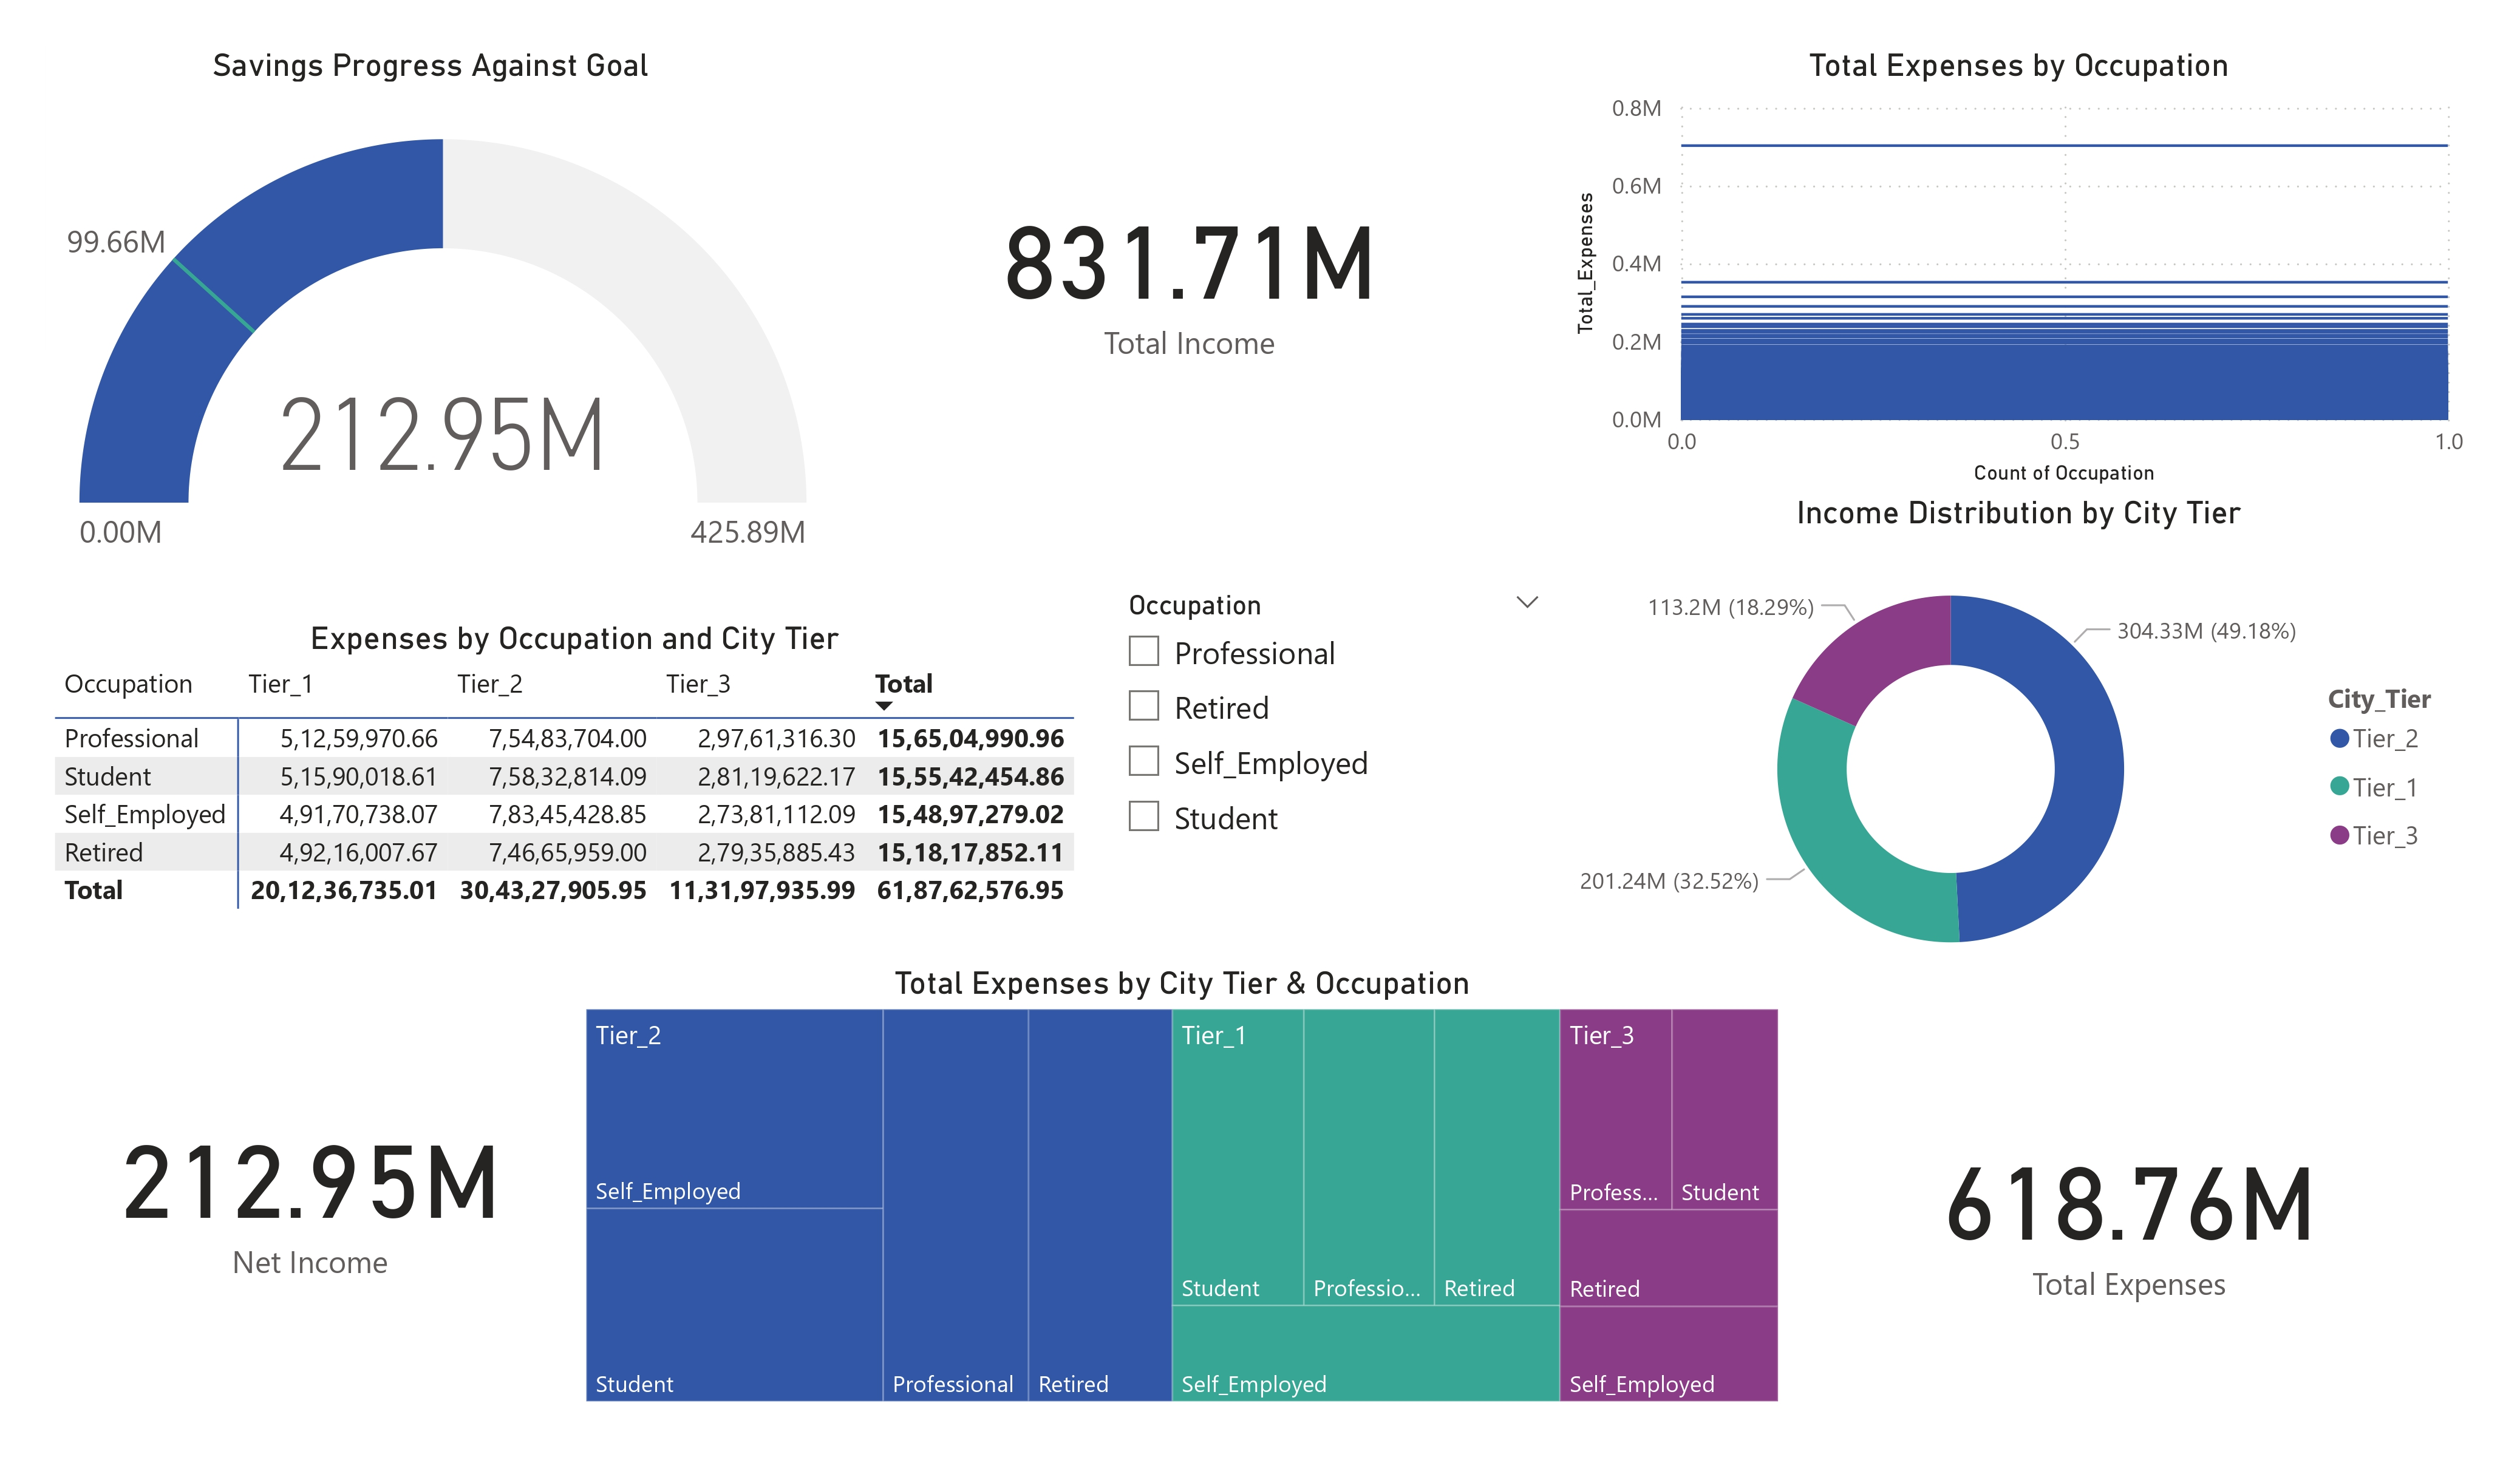

Layout of this report page (visuals, bound fields, positions):
{"tool":"powerbi","page":{"name":"Page 1","canvas":[1280,720],"ordinal":0},"visuals":[{"type":"card","fields":{"Values":["Sum(archive (1).Income)"]},"box":[406,0,394,236],"z":0},{"type":"card","title":"Total Expenses","fields":{"Values":["Sum(archive (1).Total_Expenses)"]},"box":[918,508,360,212],"z":1000},{"type":"card","fields":{"Values":["archive (1).Net Income"]},"box":[0,484.4,279.3,236.3],"z":2000},{"type":"clusteredBarChart","title":"Total Expenses by Occupation","fields":{"Y":["CountNonNull(archive (1).Occupation)"],"Category":["archive (1).Total_Expenses"]},"box":[800.8,0,478.5,236.3],"z":3000},{"type":"donutChart","title":"Income Distribution by City Tier","fields":{"Category":["archive (1).City_Tier"],"Y":["Sum(archive (1).Total_Expenses)"]},"box":[800,236,480,272],"z":4000},{"type":"slicer","fields":{"Values":["archive (1).Occupation"]},"box":[558,282,242,202],"z":5000},{"type":"pivotTable","title":"Expenses by Occupation and City Tier","fields":{"Rows":["archive (1).Occupation"],"Columns":["archive (1).City_Tier"],"Values":["Sum(archive (1).Total_Expenses)"]},"box":[0,302,558,182],"z":6000},{"type":"treemap","title":"Total Expenses by City Tier & Occupation","fields":{"Group":["archive (1).City_Tier"],"Details":["archive (1).Occupation"],"Values":["Sum(archive (1).Total_Expenses)"]},"box":[280,484,638,236],"z":6002},{"type":"gauge","title":"Savings Progress Against Goal","fields":{"Y":["archive (1).Net Income"],"TargetValue":["Sum(archive (1).Desired_Savings)"]},"box":[0,0,406.3,302.7],"z":6003}]}

Visuals, with their boxes in screenshot pixels (x1, y1, x2, y2):
card - Sum(archive (1).Income): crop(816, 46, 1564, 493)
"Total Expenses" card: crop(1788, 1009, 2471, 1411)
card - archive (1).Net Income: crop(46, 965, 576, 1411)
"Total Expenses by Occupation" clusteredBarChart: crop(1565, 46, 2473, 494)
"Income Distribution by City Tier" donutChart: crop(1564, 493, 2474, 1009)
slicer - archive (1).Occupation: crop(1105, 580, 1564, 964)
"Expenses by Occupation and City Tier" pivotTable: crop(46, 619, 1105, 964)
"Total Expenses by City Tier & Occupation" treemap: crop(577, 964, 1788, 1411)
"Savings Progress Against Goal" gauge: crop(46, 46, 817, 620)
